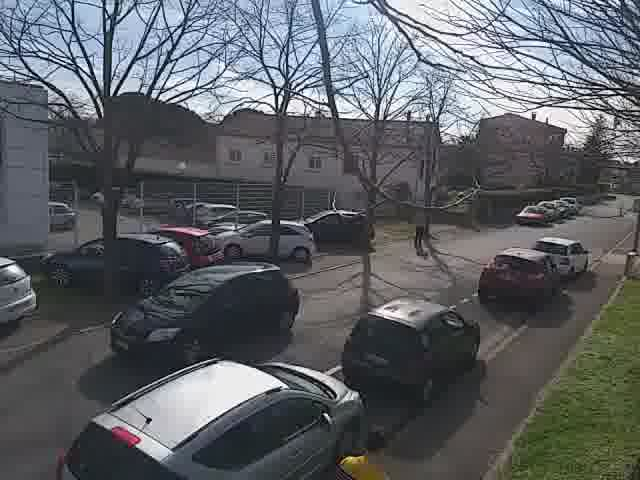persona: (409, 197, 429, 248)
